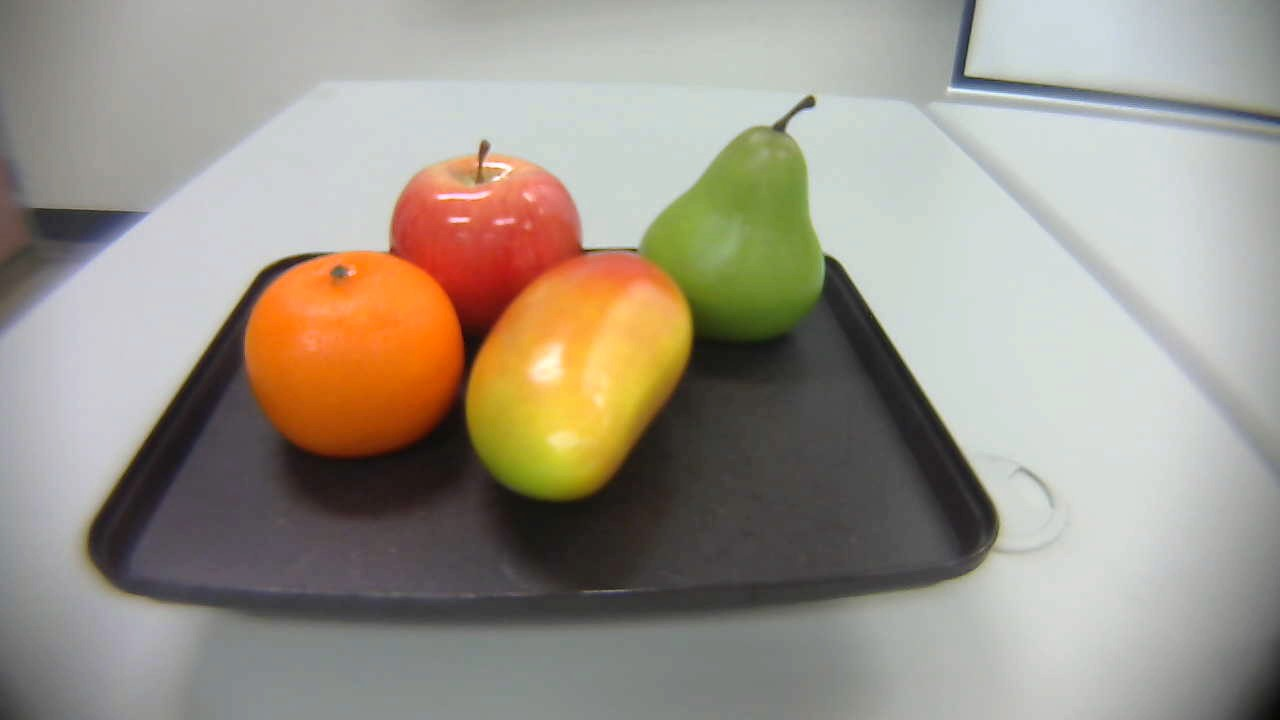green pear: (623, 91, 833, 348)
orange: (238, 244, 478, 459)
red apple: (382, 133, 587, 324)
red mango: (460, 243, 712, 528)
